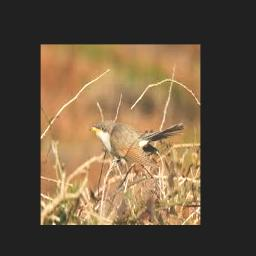Cuckoo: (88, 121, 184, 165)
